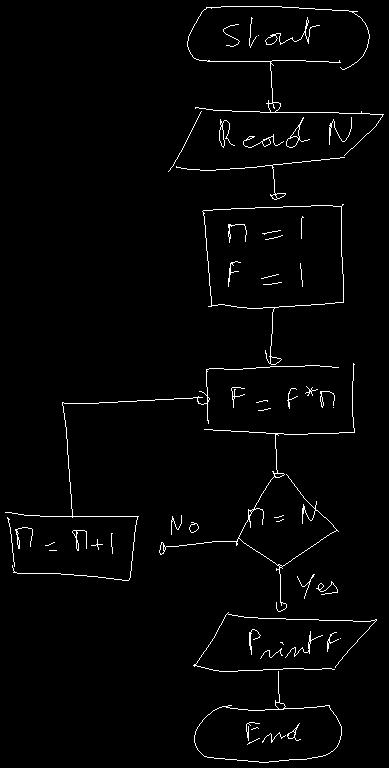arrow: (62, 391, 209, 517), (159, 541, 237, 554), (265, 308, 281, 364), (266, 62, 280, 112), (272, 433, 284, 477), (270, 165, 285, 199), (276, 564, 286, 611), (275, 671, 285, 709)
data: (168, 107, 383, 171), (193, 612, 376, 671)
decision: (236, 474, 338, 570)
process: (202, 204, 343, 308), (204, 363, 354, 434), (5, 512, 138, 580)
terminator: (187, 6, 369, 69), (194, 705, 341, 762)
text: (228, 216, 303, 286), (219, 117, 351, 147), (223, 17, 319, 47), (249, 629, 340, 658), (15, 527, 112, 553), (231, 386, 334, 410), (248, 501, 316, 527), (246, 722, 300, 744), (297, 574, 337, 598), (171, 515, 198, 534)
